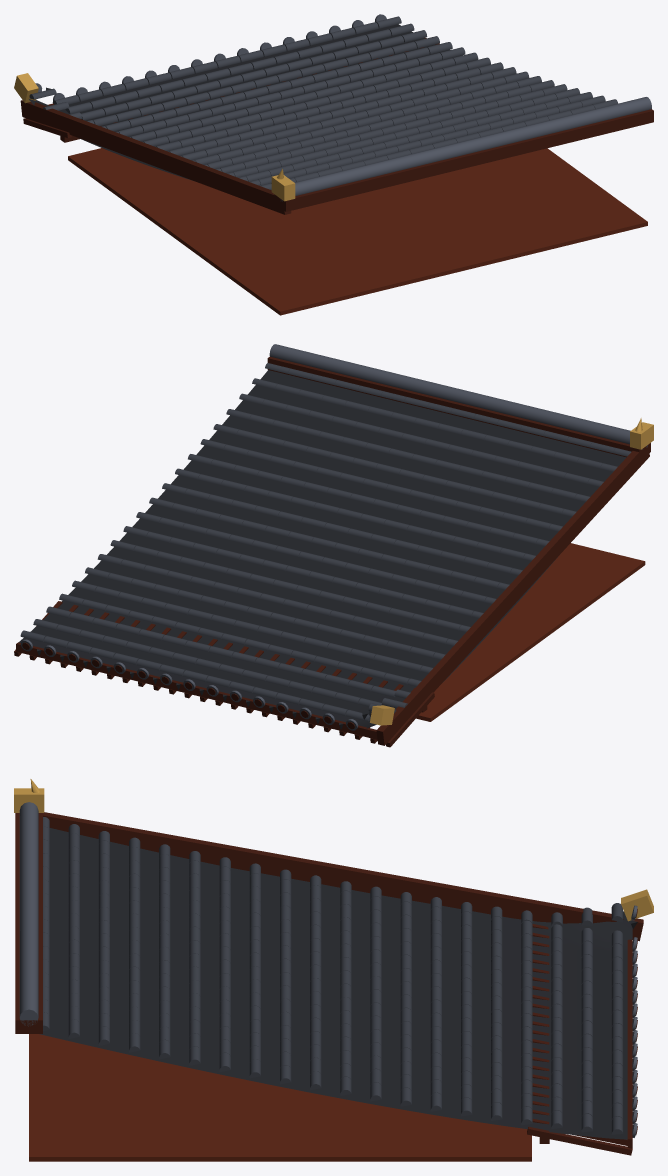
The model's file is pal1-inn-roof-back-west.glb.
3 views of the same model, one above another, from view 1: azimuth 30°, elevation 25°; view 2: azimuth 150°, elevation 25°; view 3: azimuth 270°, elevation 25° (orthographic). The views are drawn at different scales.
Visible parts, largest first — view 1: Pal1RoofBack; view 2: Pal1RoofBack; view 3: Pal1RoofBack.
Part boxes in pixels (box(x1,y1,x2,y2)): Pal1RoofBack: box(14, 14, 653, 315); Pal1RoofBack: box(14, 344, 653, 747); Pal1RoofBack: box(14, 779, 653, 1161).
Size of what is drawn, in the model's own units: 4.05 by 1.52 by 5.09.
